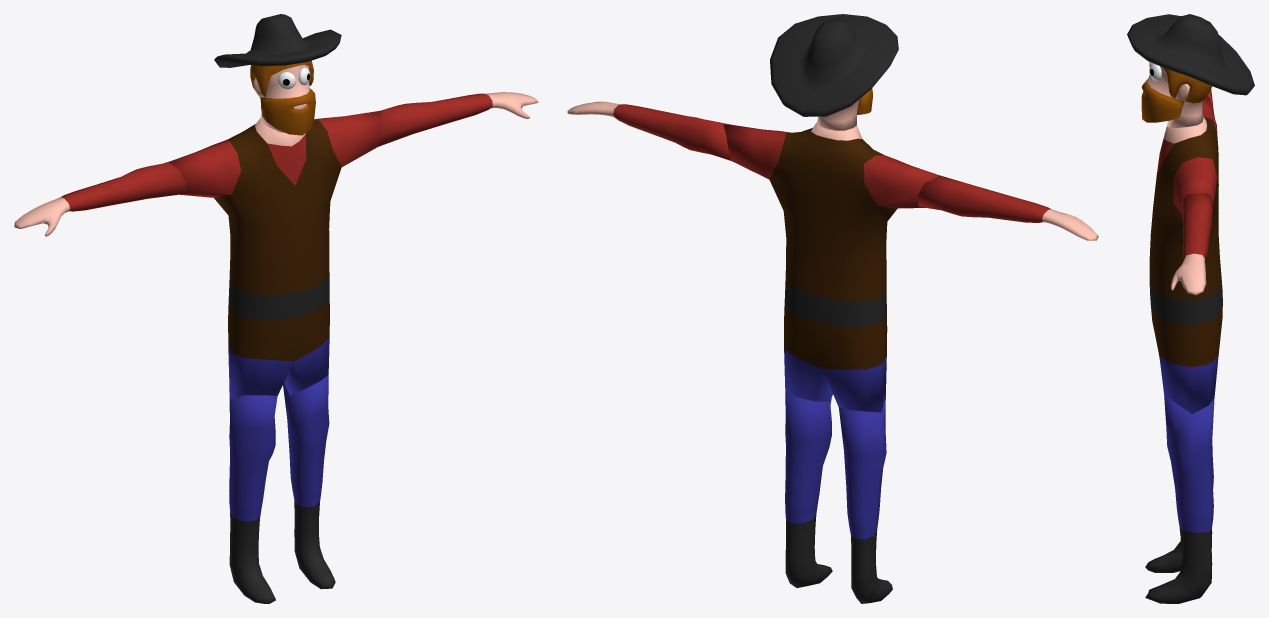
File: Western_CowboyDude_Parts.fbx
3 renders of one model, left to right at view 1: azimuth 30°, elevation 25°; view 2: azimuth 150°, elevation 25°; view 3: azimuth 270°, elevation 25°, orthographic.
Visible parts, largest first — view 1: man-cowboy_parts.004, man-cowboy_parts, man-cowboy_parts.001, man-cowboy_parts.005, man-cowboy_parts.002, man-cowboy_parts.003; view 2: man-cowboy_parts.004, man-cowboy_parts.001, man-cowboy_parts.005, man-cowboy_parts, man-cowboy_parts.002, man-cowboy_parts.003; view 3: man-cowboy_parts.004, man-cowboy_parts.001, man-cowboy_parts.005, man-cowboy_parts.003, man-cowboy_parts.
Part boxes in pixels (x1,y1,x2,y2): man-cowboy_parts.004: [168, 111, 381, 399]; man-cowboy_parts: [229, 388, 277, 603]; man-cowboy_parts.001: [214, 14, 341, 135]; man-cowboy_parts.005: [283, 375, 335, 589]; man-cowboy_parts.002: [14, 161, 185, 236]; man-cowboy_parts.003: [378, 92, 538, 146]; man-cowboy_parts.004: [723, 122, 938, 412]; man-cowboy_parts.001: [770, 14, 898, 130]; man-cowboy_parts.005: [785, 392, 832, 587]; man-cowboy_parts: [838, 395, 892, 603]; man-cowboy_parts.002: [917, 175, 1098, 240]; man-cowboy_parts.003: [567, 101, 731, 160]; man-cowboy_parts.004: [1149, 96, 1222, 414]; man-cowboy_parts.001: [1127, 14, 1254, 128]; man-cowboy_parts.005: [1145, 395, 1214, 603]; man-cowboy_parts.003: [1171, 193, 1213, 294]; man-cowboy_parts: [1145, 442, 1213, 572].
Size of the model in its own units: 180 by 187 by 38.04.
Materials: 1 (1 with a texture image).
